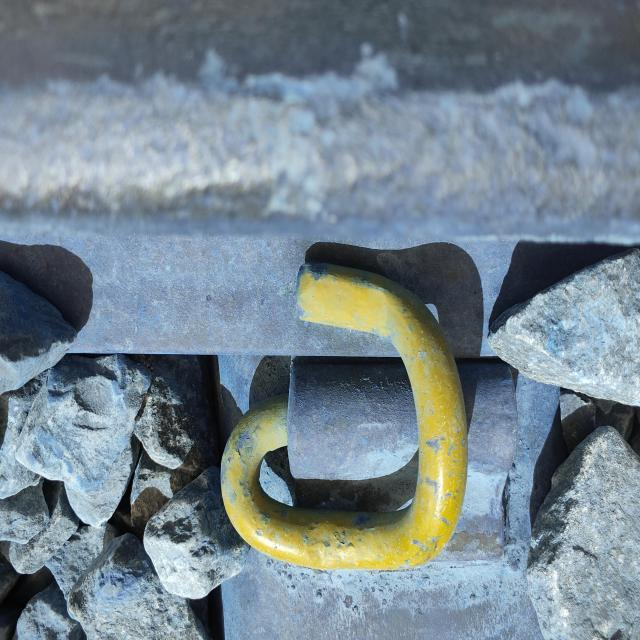Good Fasteners: (216, 248, 523, 614)
